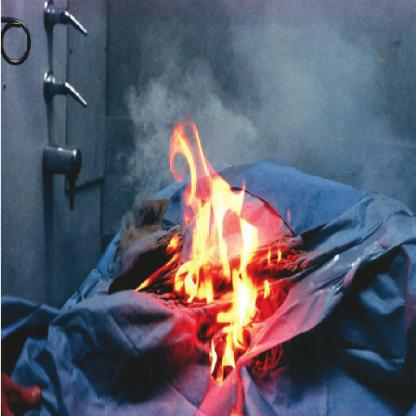fire: (138, 132, 271, 386)
smoke: (116, 0, 416, 229)
